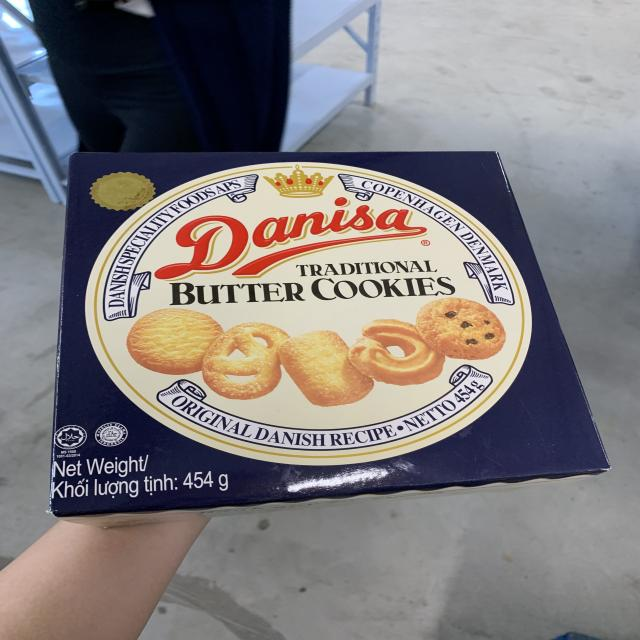object_name: (70, 156, 569, 492)
